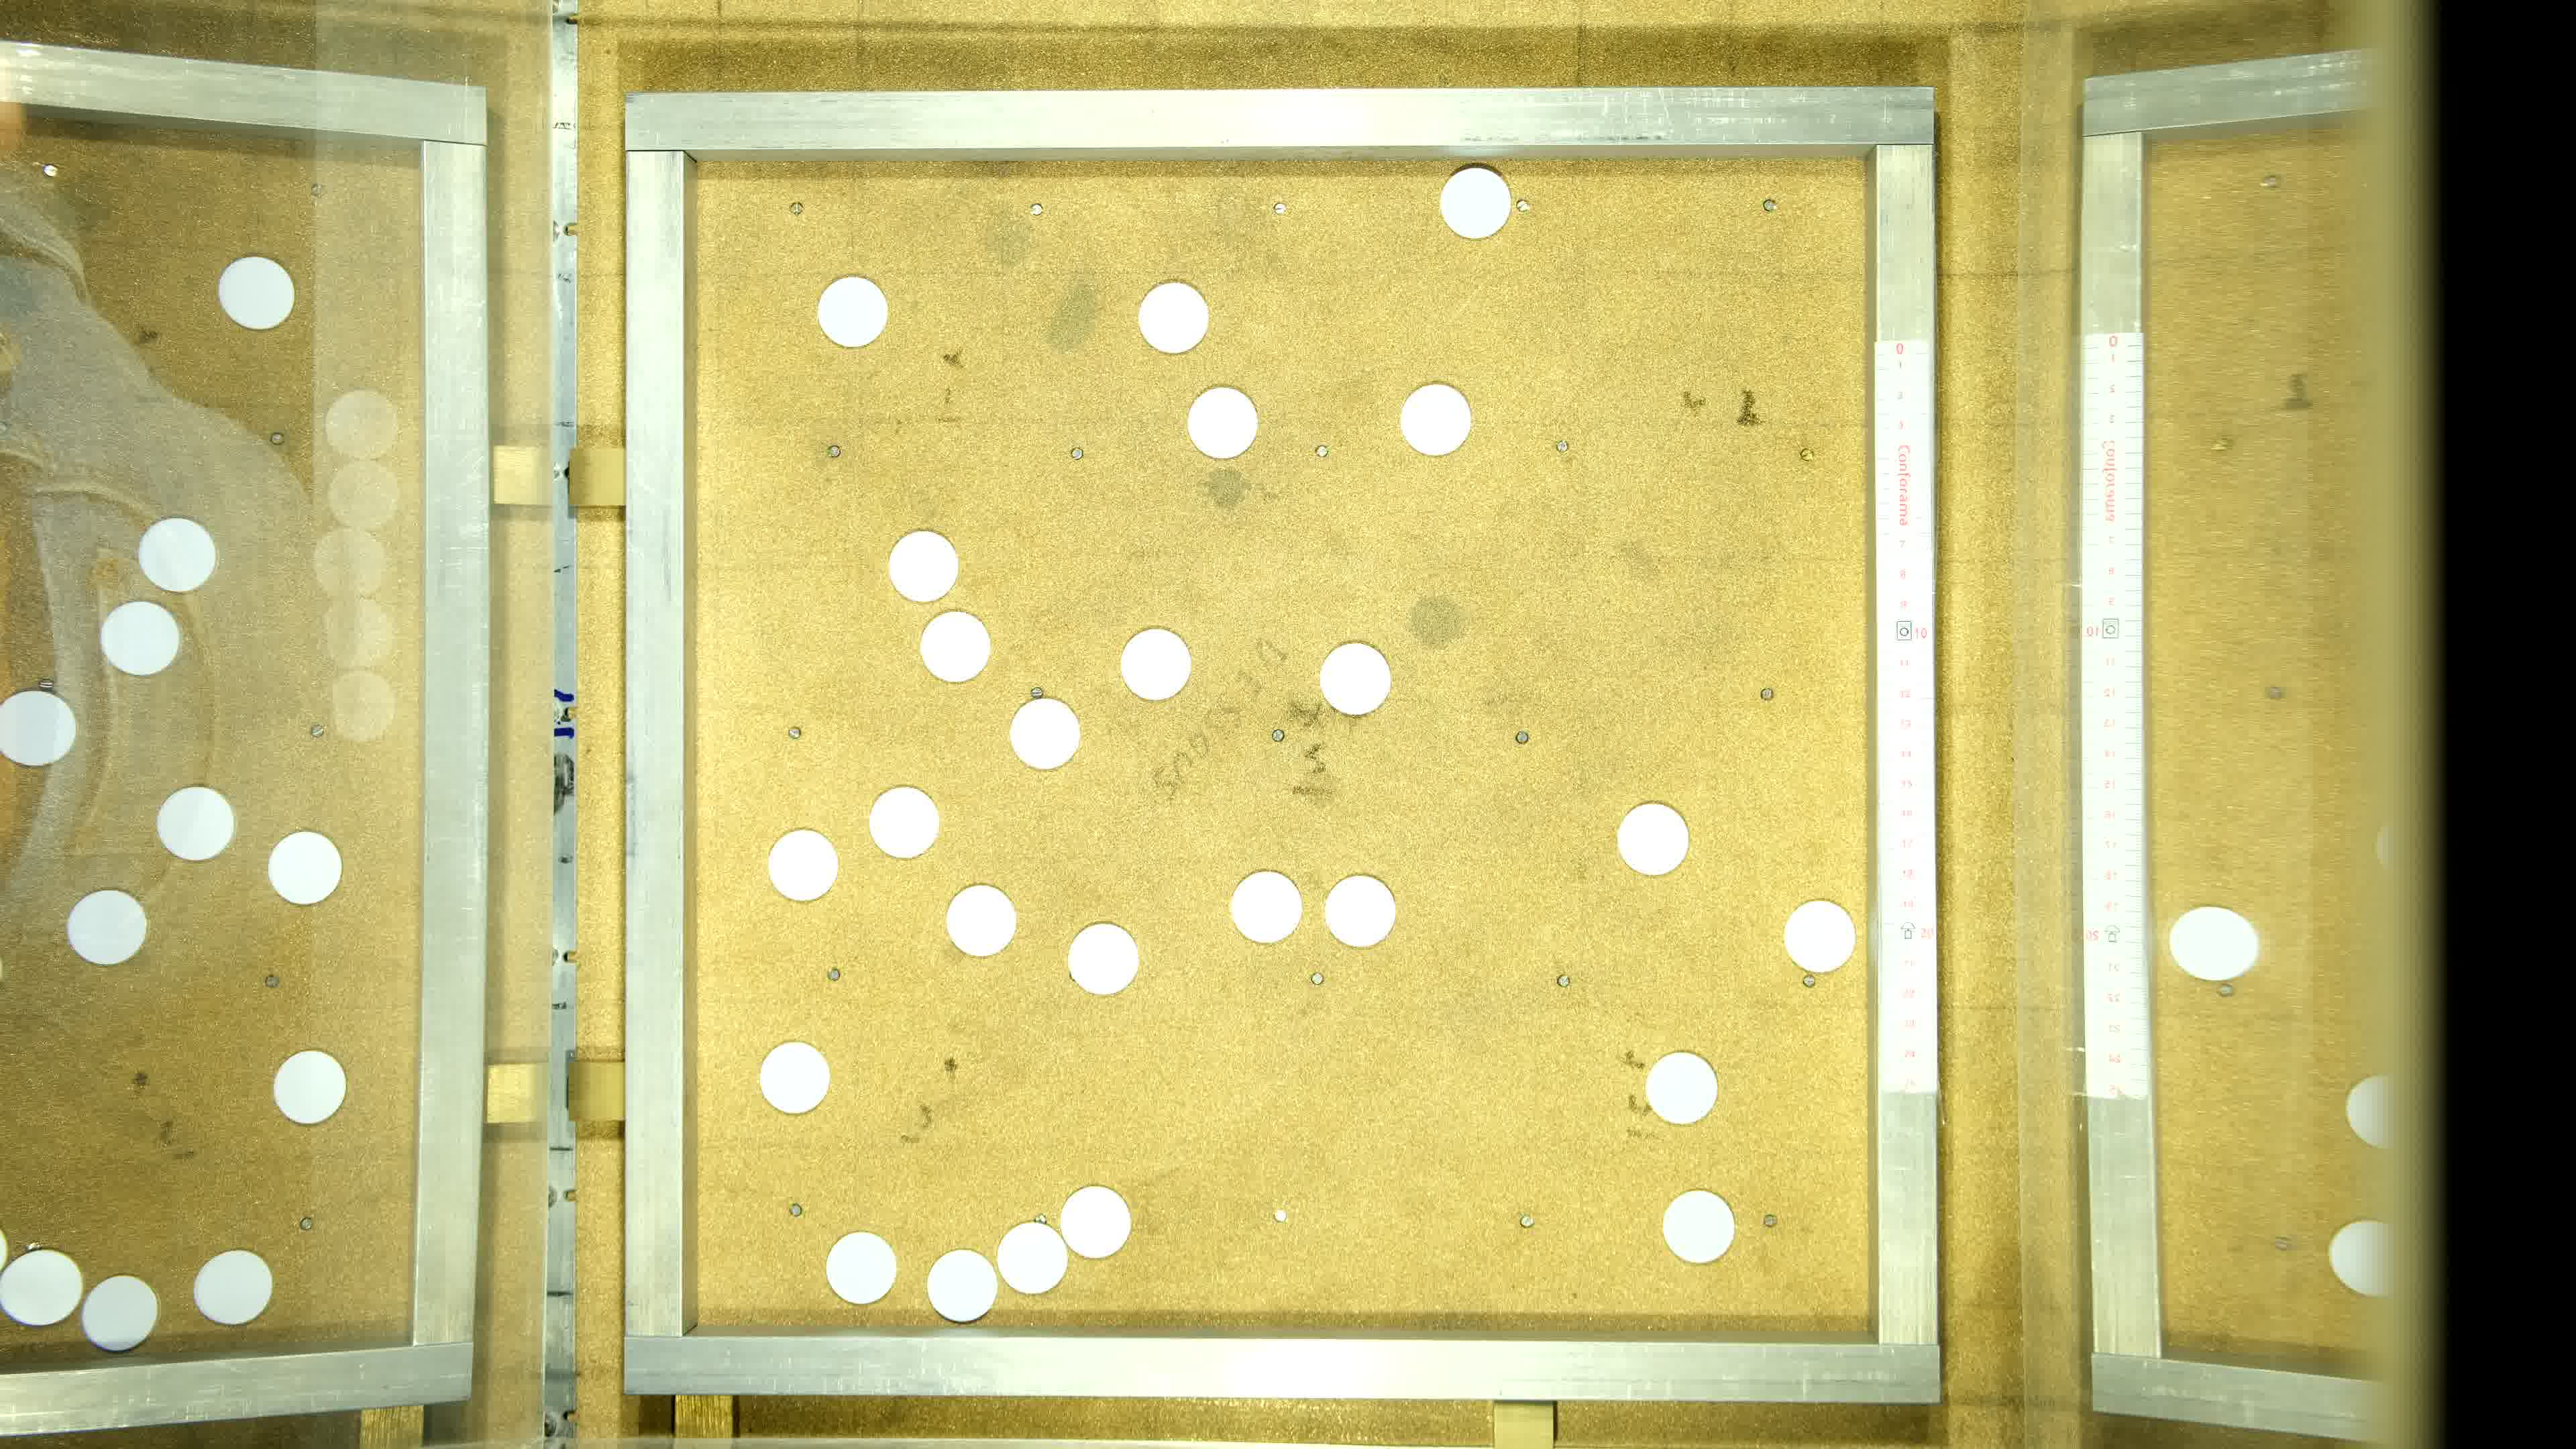pallet: (1060, 1182, 1131, 1256), (1621, 803, 1691, 878), (1787, 902, 1858, 977), (1647, 1053, 1718, 1127), (924, 1246, 994, 1320), (824, 1228, 895, 1302), (1440, 165, 1511, 239), (1189, 386, 1260, 460), (1138, 283, 1208, 357), (922, 609, 993, 683), (1008, 701, 1079, 775), (1120, 632, 1191, 706), (1320, 642, 1391, 717), (1067, 920, 1138, 994), (996, 1219, 1067, 1292), (1663, 1187, 1734, 1260), (810, 272, 881, 345), (888, 531, 959, 603), (766, 826, 837, 899), (761, 1039, 830, 1113), (1327, 876, 1396, 950), (1405, 377, 1474, 451), (950, 885, 1019, 959), (1233, 872, 1302, 945), (872, 789, 941, 862)
